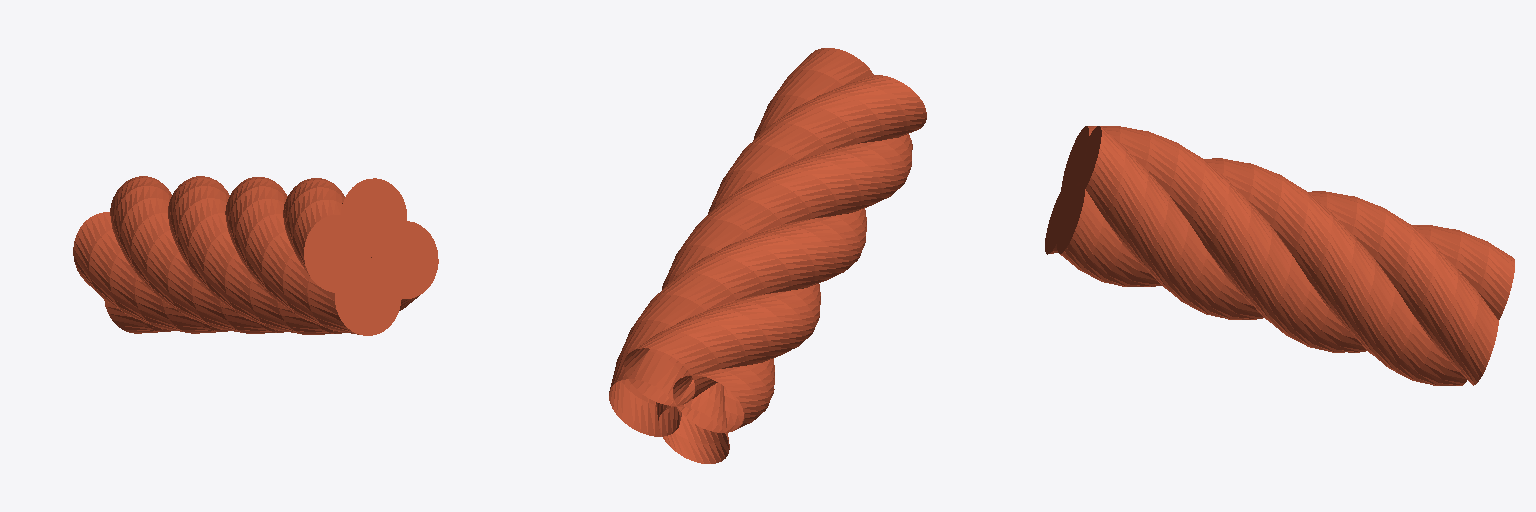
File: fire.obj
The picture shows the model from 3 angles: view 1: azimuth 30°, elevation 25°; view 2: azimuth 150°, elevation 25°; view 3: azimuth 270°, elevation 25°; orthographic projection.
Parts seen in each view (by area): view 1: Circle; view 2: Circle; view 3: Circle.
Part boxes in pixels (x1,y1,x2,y2): Circle: (73, 176, 438, 335); Circle: (609, 48, 926, 463); Circle: (1045, 126, 1514, 385).
Bounding box in the file's own units: 0.0437 × 0.0727 × 0.1133.